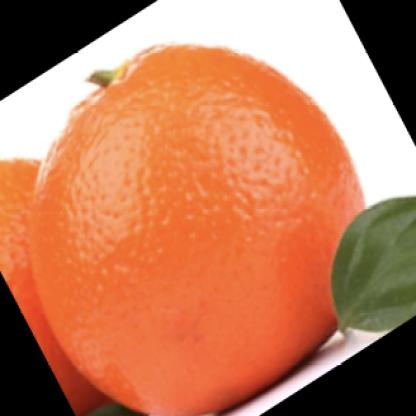fresh: (36, 44, 366, 416)
